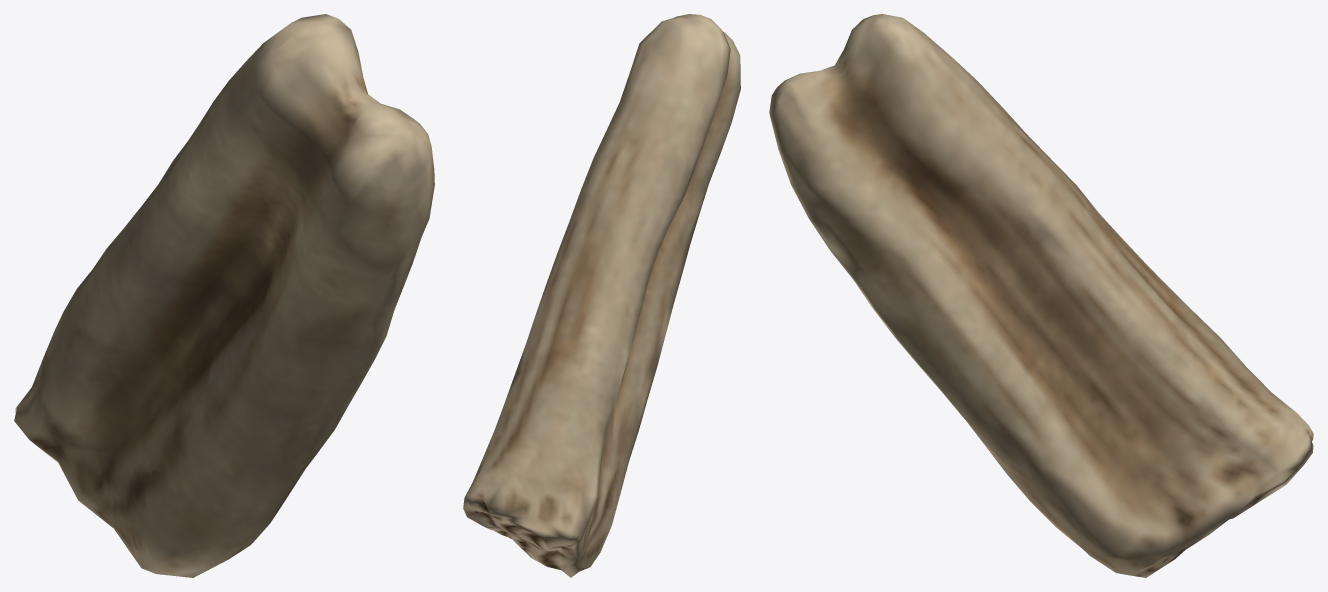
Rendered from Maxilary_Molar1.glb.
3 views of the same model, side by side, from view 1: azimuth 30°, elevation 25°; view 2: azimuth 150°, elevation 25°; view 3: azimuth 270°, elevation 25° (orthographic). The views are drawn at different scales.
Parts seen in each view (by area): view 1: Maxilary_Molar1.glb; view 2: Maxilary_Molar1.glb; view 3: Maxilary_Molar1.glb.
Boxes of the visible parts, x1,y1,x2,y2 form: Maxilary_Molar1.glb: (14,14,434,577); Maxilary_Molar1.glb: (463,14,740,577); Maxilary_Molar1.glb: (769,14,1313,577).
Size of the model in its own units: 0.022 by 0.0756 by 0.0684.
Materials: 1 (1 with a texture image).
